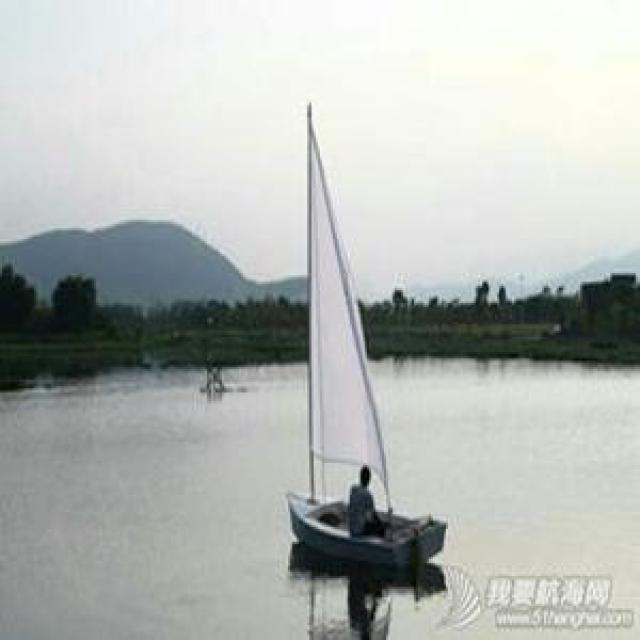sailboat: (256, 97, 453, 575)
